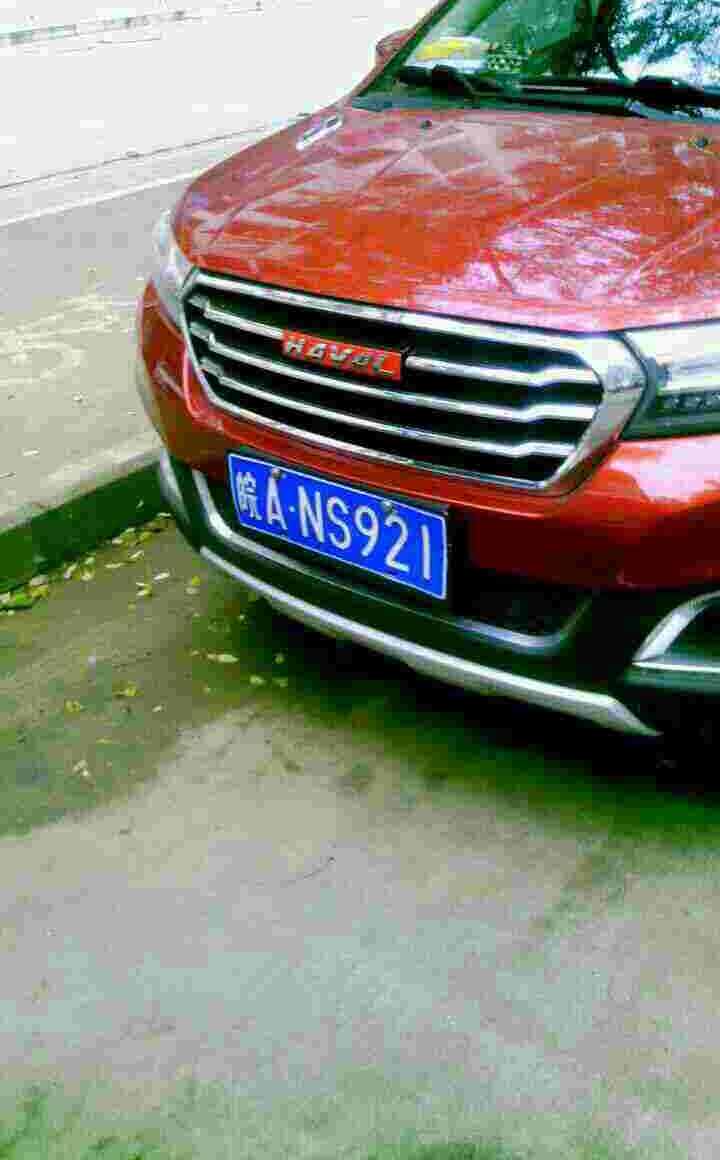license_plate: (233, 454, 450, 600)
